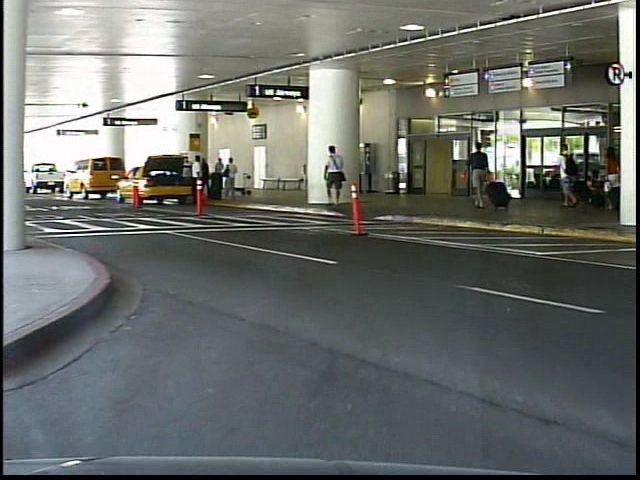person: (552, 138, 589, 218), (597, 133, 626, 218), (466, 138, 496, 214), (322, 144, 353, 210)
